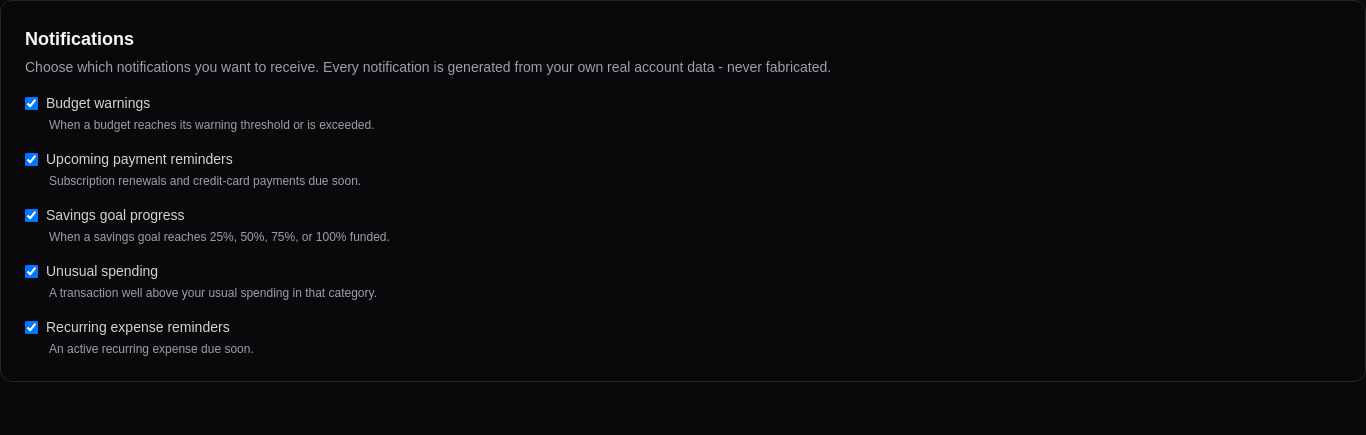
NotificationsSection › reverts the toggle and shows an error if saving fails
Click the checkbox labelled "Savings goal progress" at (32, 215), box [25,208,38,222]
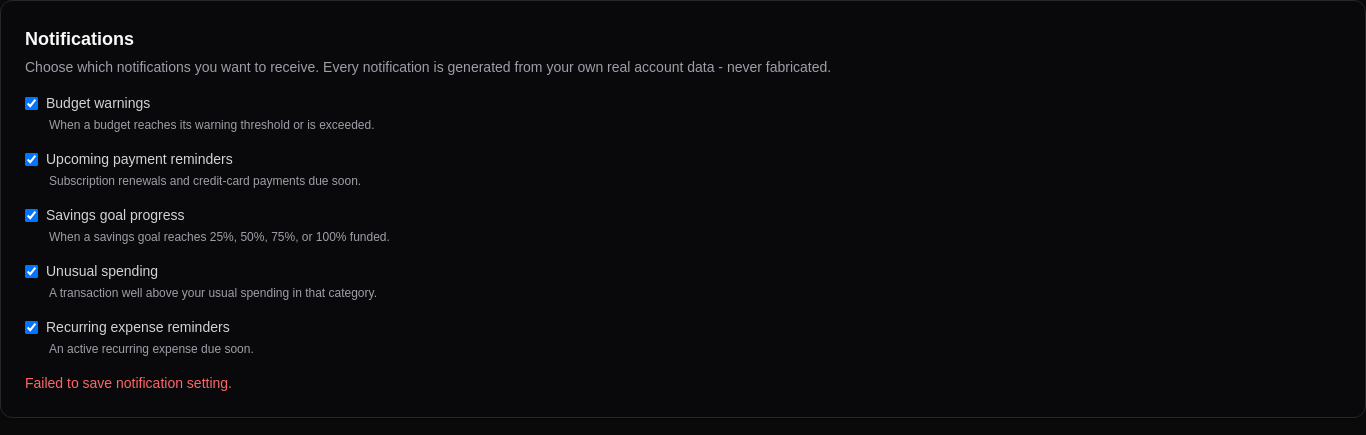
Result: the text "Failed to save notification setting." is shown at [25,375,232,391]
